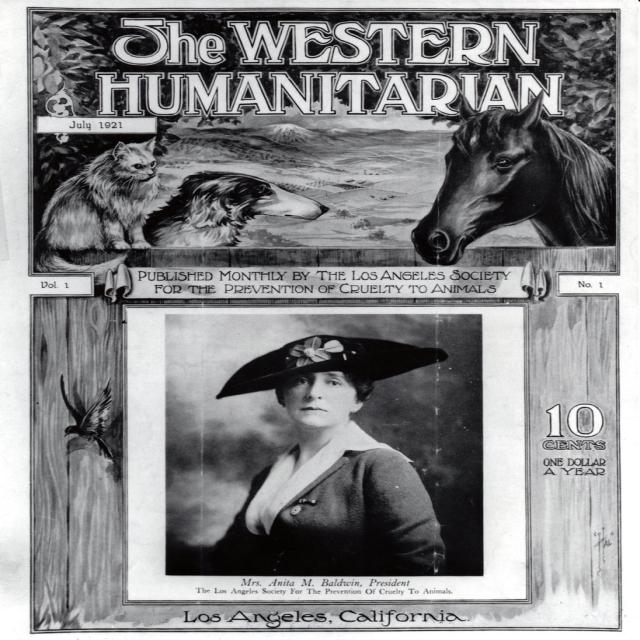Hat: (214, 332, 448, 398)
